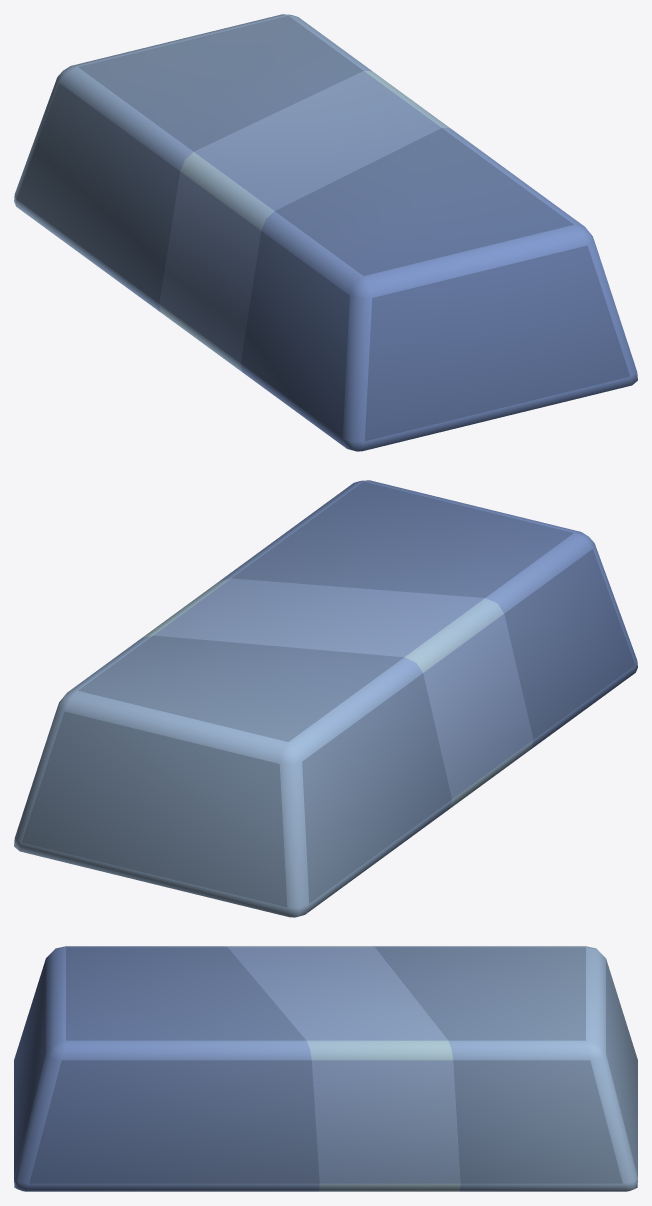
Rendered from Iron_Ingot.fbx.
3 views of the same model, one above another, from view 1: azimuth 30°, elevation 25°; view 2: azimuth 150°, elevation 25°; view 3: azimuth 270°, elevation 25° (orthographic). The views are drawn at different scales.
Visible parts, largest first — view 1: Cube.001; view 2: Cube.001; view 3: Cube.001.
Boxes of the visible parts, x1,y1,x2,y2 form: Cube.001: (14, 14, 637, 451); Cube.001: (14, 480, 637, 917); Cube.001: (14, 946, 637, 1191).
Bounding box in the file's own units: 21.12 × 10.39 × 42.86.
